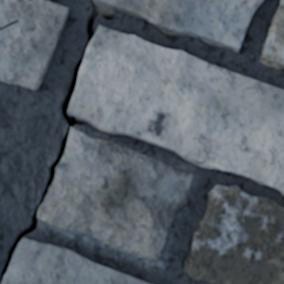brick: (69, 26, 283, 194), (185, 185, 283, 283), (94, 0, 262, 51), (2, 238, 149, 283), (0, 0, 68, 89), (260, 0, 283, 68)
broken_brick: (38, 127, 194, 261)
crack: (0, 2, 116, 281), (170, 204, 185, 216)
